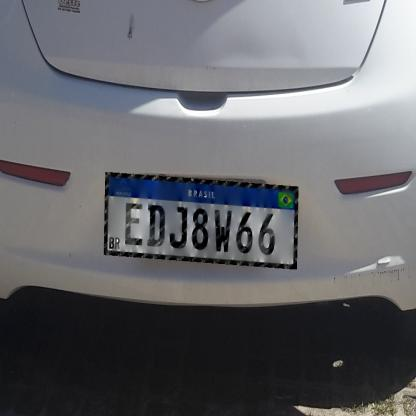PlacaM: (104, 172, 298, 270)
